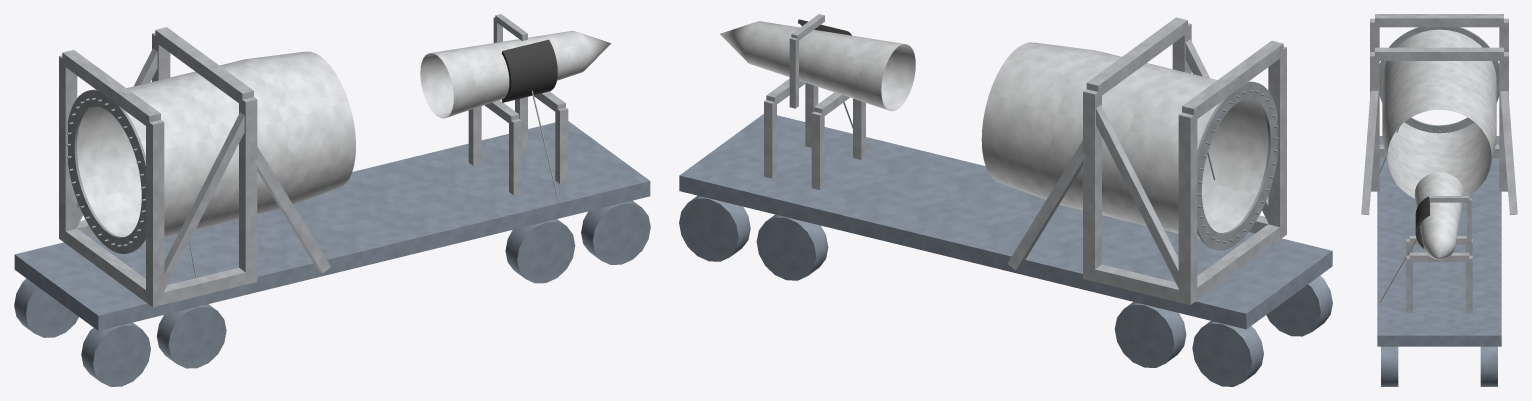
The model's file is blade-and-tower-transport-frames.glb.
3 views of the same model, side by side, from view 1: azimuth 30°, elevation 25°; view 2: azimuth 150°, elevation 25°; view 3: azimuth 270°, elevation 25° (orthographic). The views are drawn at different scales.
Visible parts, largest first — view 1: Trailer(context), Blade(context), RootFrame, TipCradle&Clamp, RootAdapter&Bolts, SaddlePads; view 2: Trailer(context), Blade(context), RootFrame, TipCradle&Clamp, RootAdapter&Bolts; view 3: Trailer(context), Blade(context), RootFrame, TipCradle&Clamp, RootAdapter&Bolts, SaddlePads, Lashing.
Boxes of the visible parts, box(x1,y1,x2,y2) form: Trailer(context): box(14, 121, 650, 386); Blade(context): box(77, 30, 610, 242); RootFrame: box(59, 27, 330, 307); TipCradle&Clamp: box(468, 14, 568, 195); RootAdapter&Bolts: box(66, 89, 145, 253); SaddlePads: box(501, 39, 557, 102); Trailer(context): box(679, 114, 1332, 386); Blade(context): box(720, 21, 1268, 238); RootFrame: box(1007, 17, 1286, 305); TipCradle&Clamp: box(764, 14, 865, 190); RootAdapter&Bolts: box(1197, 81, 1278, 250); Trailer(context): box(1377, 136, 1501, 386); Blade(context): box(1382, 29, 1496, 259); RootFrame: box(1361, 14, 1517, 215); TipCradle&Clamp: box(1406, 196, 1472, 312); RootAdapter&Bolts: box(1379, 27, 1499, 133); SaddlePads: box(1415, 196, 1429, 248); Lashing: box(1379, 127, 1420, 302).
Size of the model in its own units: 9.6 by 4.4 by 3.15.
5 materials, 4 textured.
